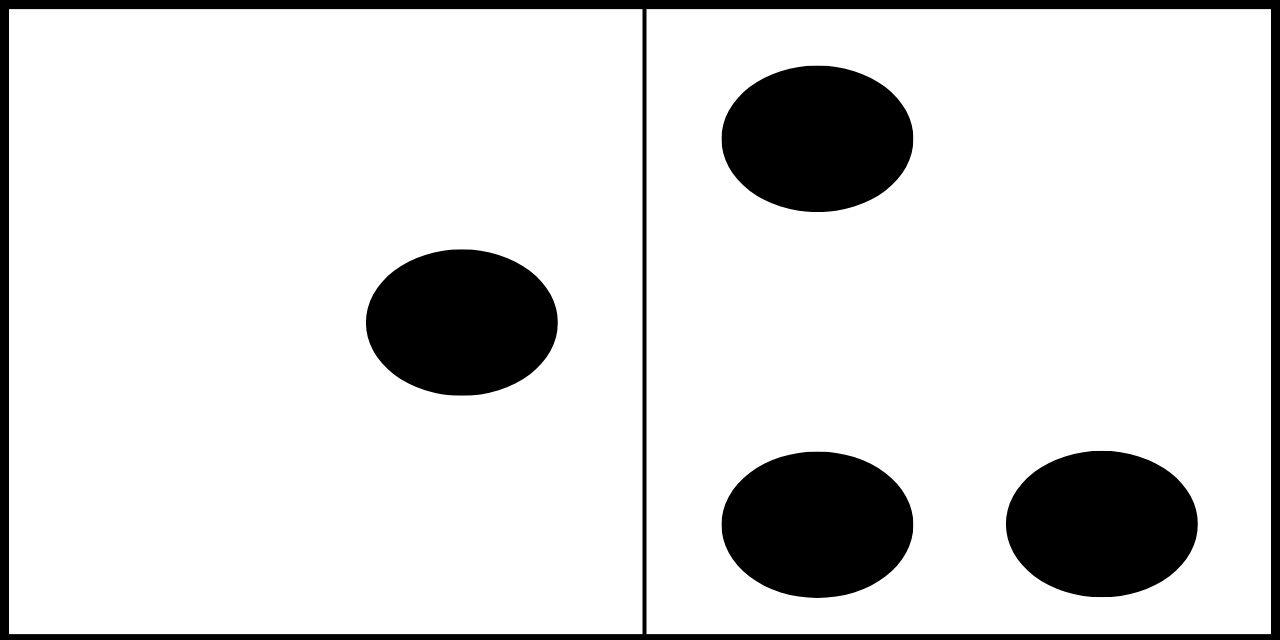dot_5: (90, 66, 558, 596)
two_cell_alphabet_ugali: (718, 66, 1199, 597)
